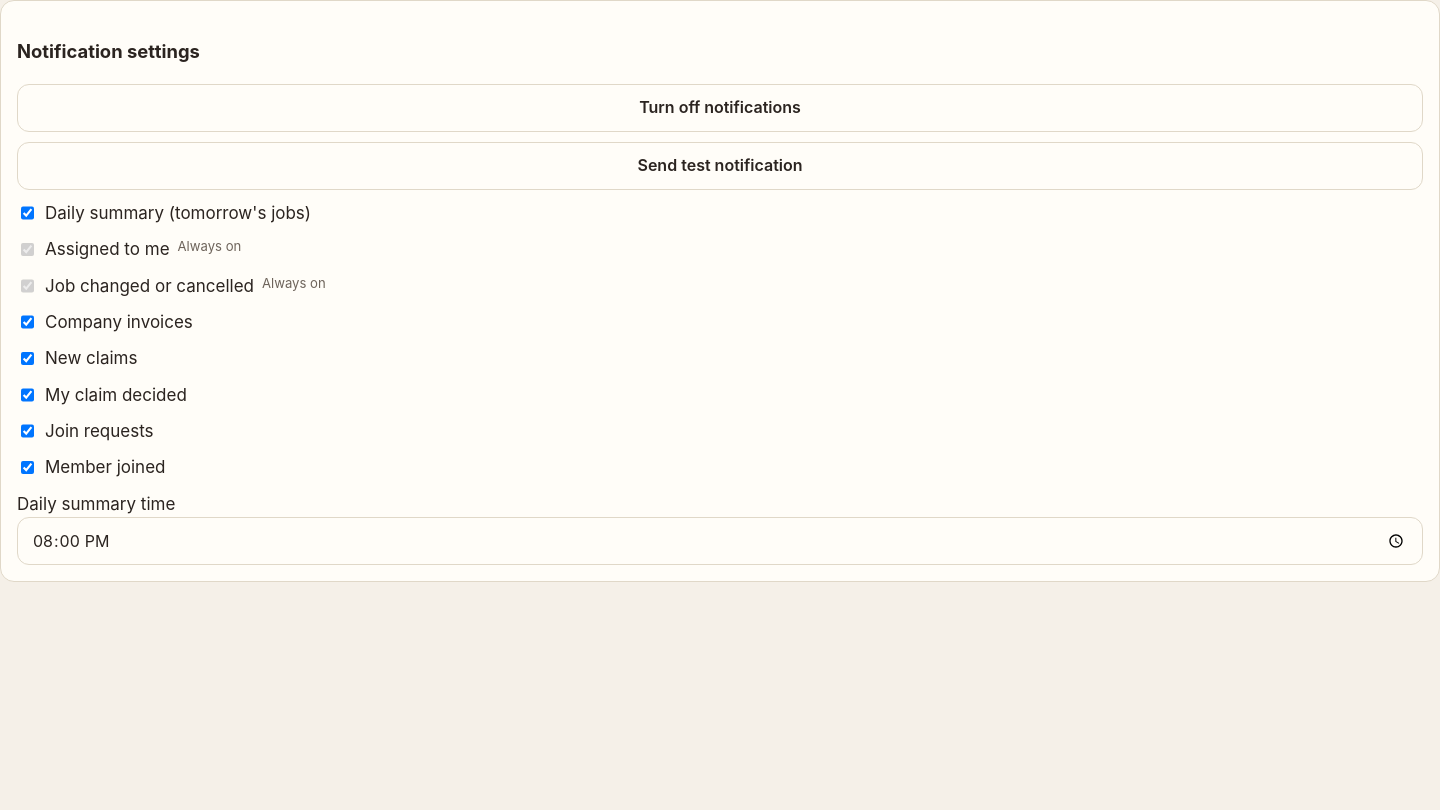
NotifySettings › sends a test notification and reports how many devices got it
Click the button "Send test notification". click: (720, 166)
box: [17,142,1423,190]
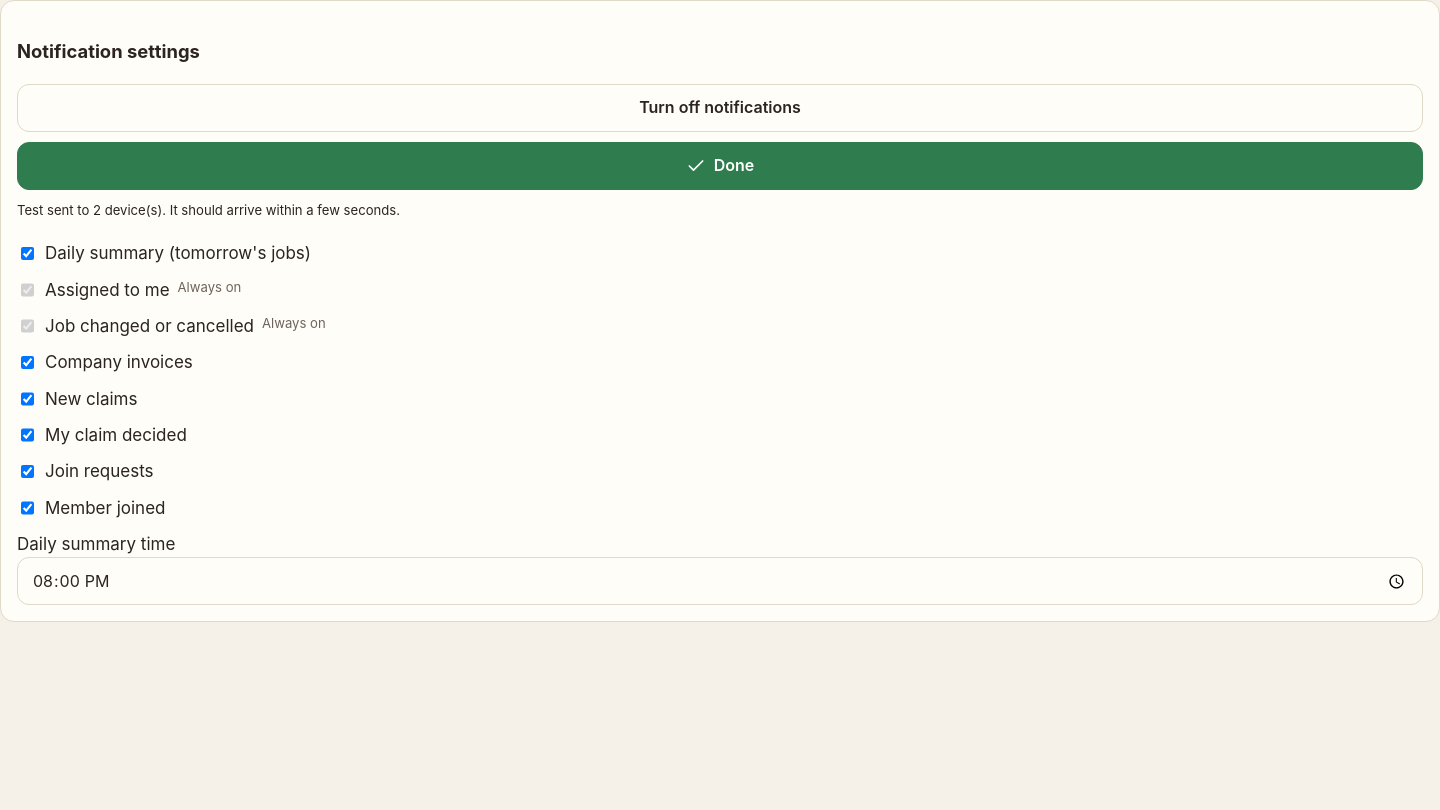
Expected: the text "Test sent to 2 device(s). It should arrive within a few seconds." is shown, [17,202,400,218]
